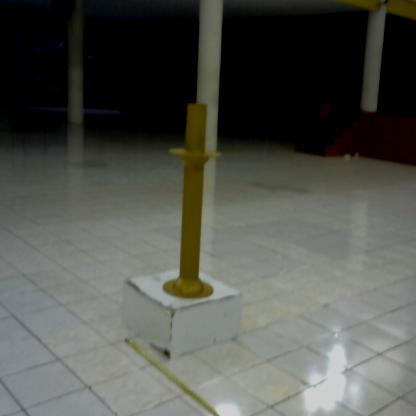pole: (163, 102, 226, 304)
